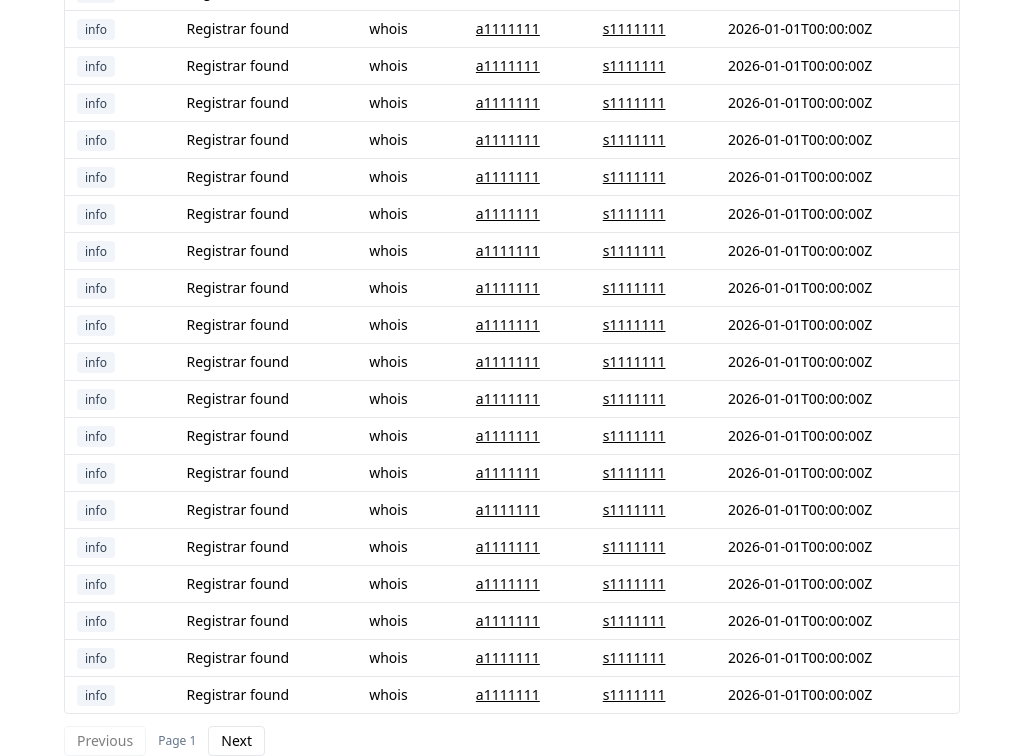
Scenario: FindingsPage — read-only, cross-tenant-safe list › resets to page 1 (offset 0) when a filter changes while on a later page
(page scrolled)
Click the button "Next" at (237, 741), box [208, 726, 265, 755]
(page scrolled)
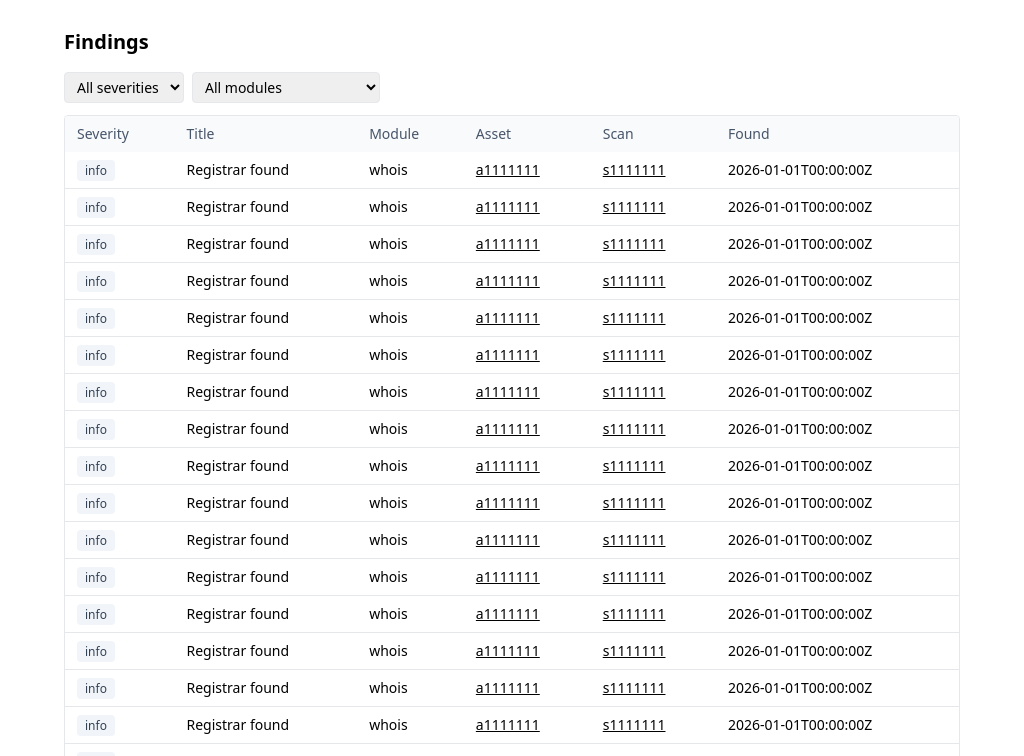
Select "high" in the 1st dropdown showing "All severities" at (124, 88), box [64, 72, 184, 103]
(page scrolled)
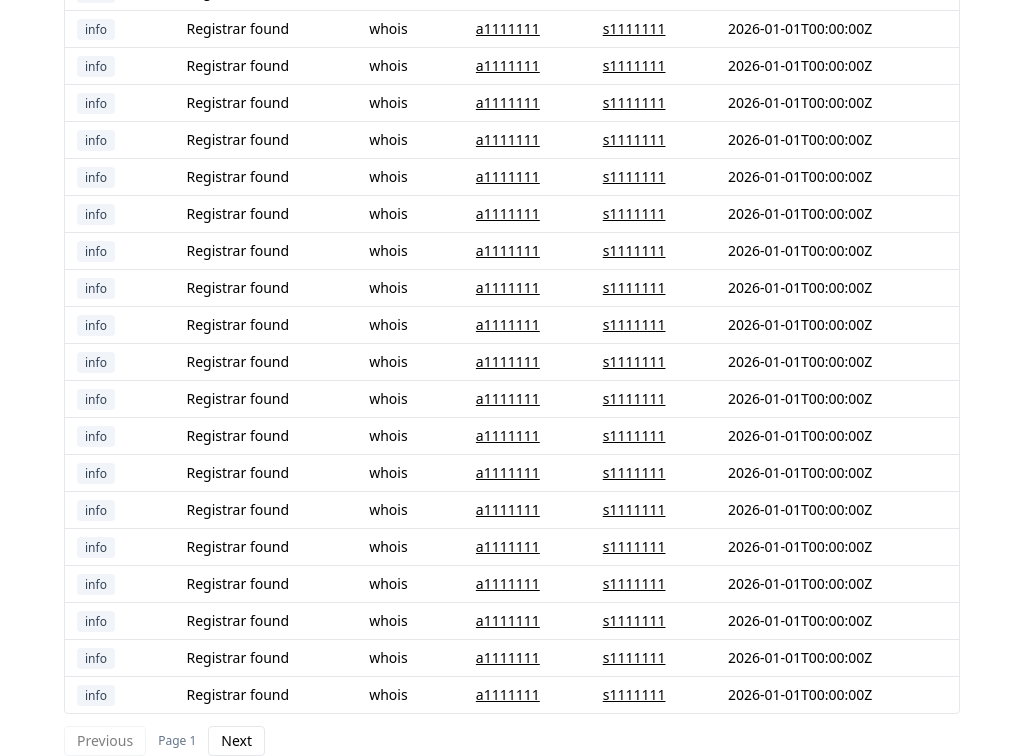
Result: the text "Page 1" is shown at [158, 733, 196, 749]
